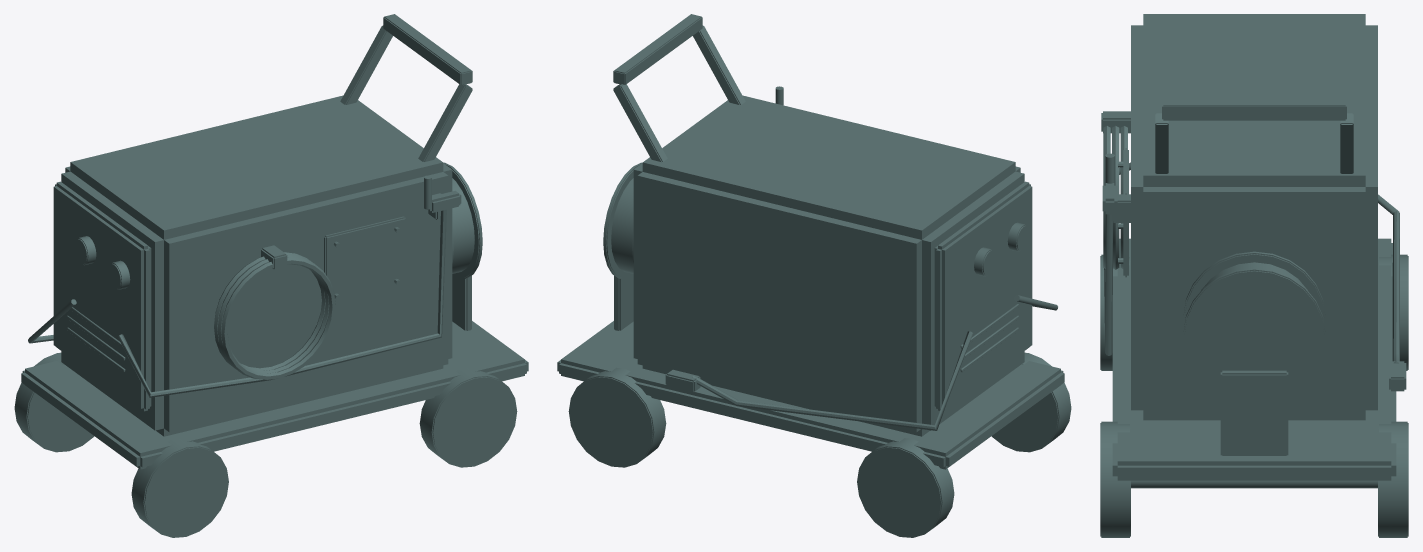
File: OBJ-036_SoldadorCarrito.fbx
3 renders of one model, left to right at view 1: azimuth 30°, elevation 25°; view 2: azimuth 150°, elevation 25°; view 3: azimuth 270°, elevation 25°, orthographic. The views are drawn at different scales.
Parts seen in each view (by area): view 1: GEO-OBJ-036_SoldadorCarrito.004; view 2: GEO-OBJ-036_SoldadorCarrito.004; view 3: GEO-OBJ-036_SoldadorCarrito.004.
Part boxes in pixels (x1,y1,x2,y2): GEO-OBJ-036_SoldadorCarrito.004: [14, 14, 528, 537]; GEO-OBJ-036_SoldadorCarrito.004: [557, 14, 1071, 537]; GEO-OBJ-036_SoldadorCarrito.004: [1100, 14, 1408, 537].
Size of the model in its own units: 0.87 by 0.7885 by 0.5.
